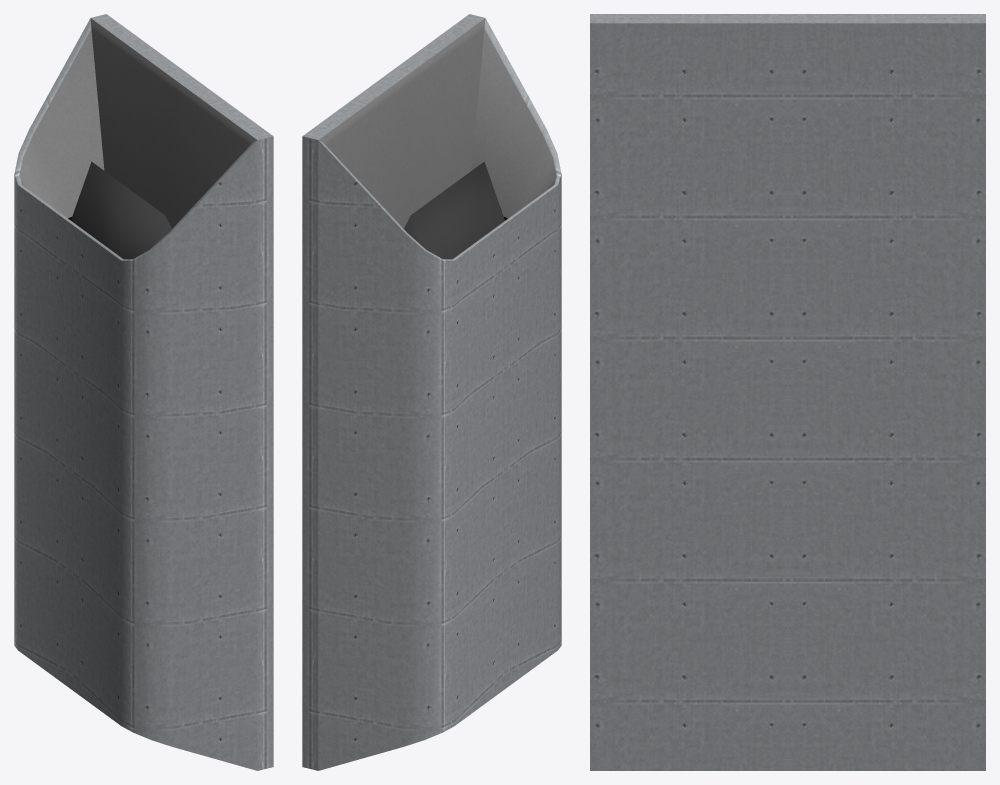
File: radial-sabre.fbx
The picture shows the model from 3 angles, left to right: view 1: azimuth 30°, elevation 25°; view 2: azimuth 150°, elevation 25°; view 3: azimuth 270°, elevation 25°; orthographic projection. The views are drawn at different scales.
Visible parts, largest first — view 1: radial-sabre; view 2: radial-sabre; view 3: radial-sabre.
Boxes of the visible parts, box(x1,y1,x2,y2) form: radial-sabre: box(14, 14, 273, 770); radial-sabre: box(302, 14, 561, 770); radial-sabre: box(590, 14, 985, 770).
Size of what is drawn, in the model's own units: 0.7928 by 3.97 by 1.91.
2 materials, 1 textured.
